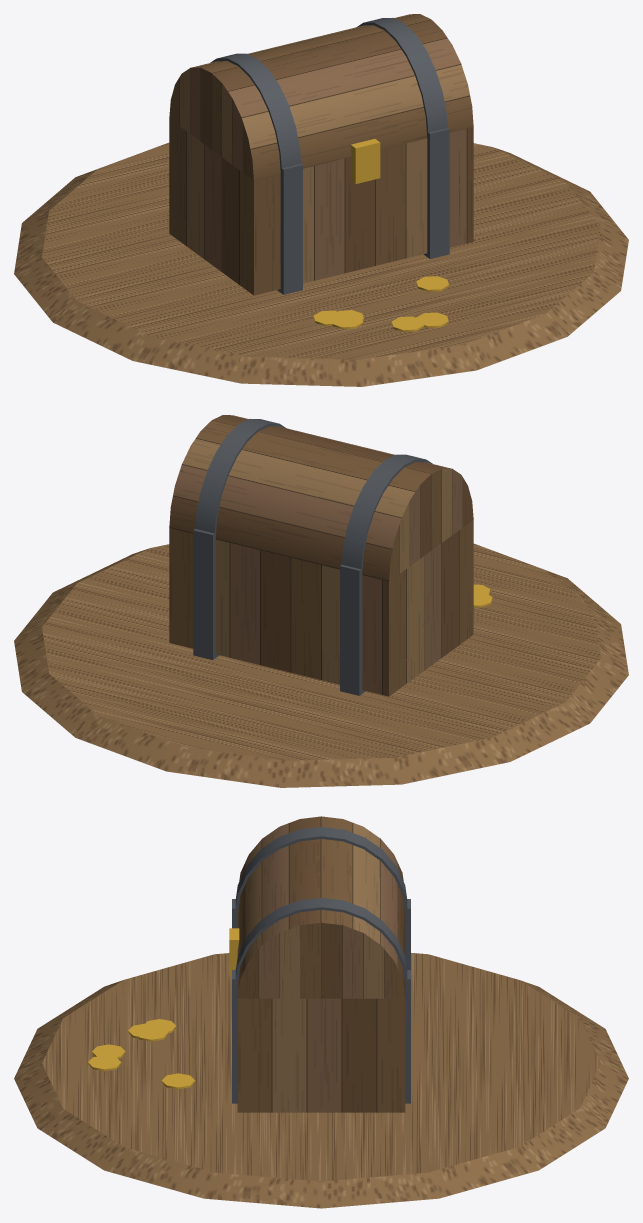
The model's file is chest.glb.
3 renders of one model, top to bottom at view 1: azimuth 30°, elevation 25°; view 2: azimuth 150°, elevation 25°; view 3: azimuth 270°, elevation 25°, orthographic.
Visible parts, largest first — view 1: chest; view 2: chest; view 3: chest.
Part boxes in pixels (x1,y1,x2,y2): chest: (14, 14, 628, 386); chest: (14, 415, 628, 787); chest: (14, 816, 628, 1208).
Bounding box in the file's own units: 2.2 × 0.835 × 2.2.
Materials: 4 (2 with a texture image).
